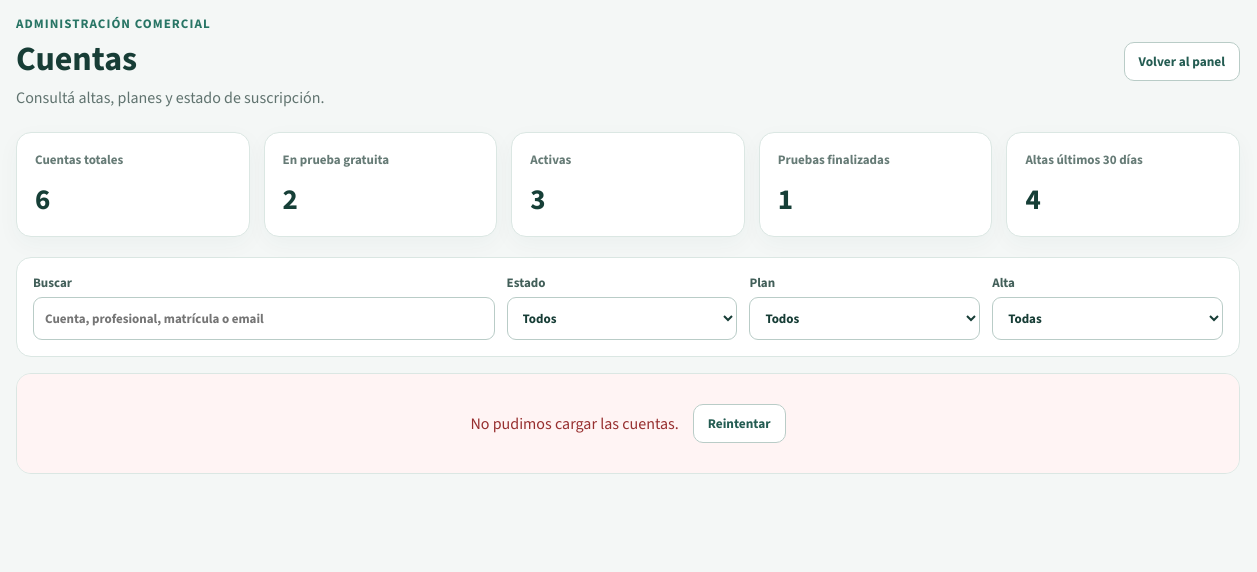
Scenario: panel administrativo de cuentas › muestra error de listado y reintenta
Click the button "Reintentar" at x=739, y=424, box [693,404,786,443]
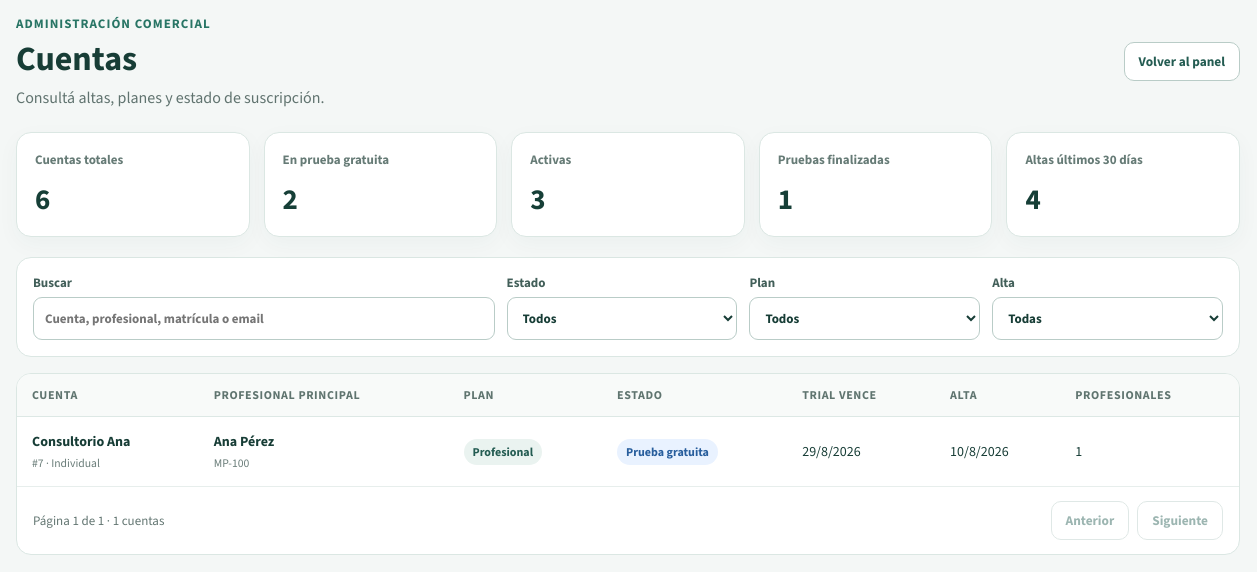
Now the button "Consultorio Ana" is shown, box [32,432,130,451]
